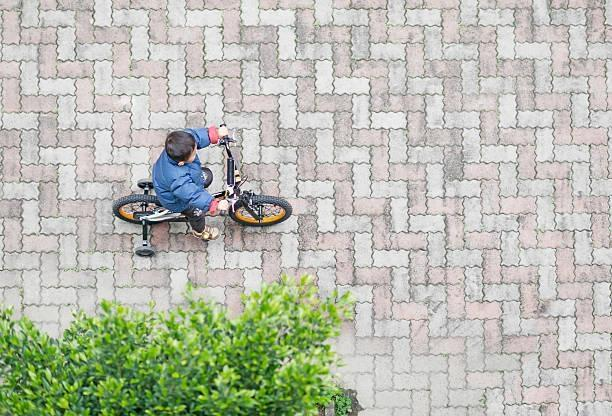Motorcycle: (112, 161, 304, 248)
